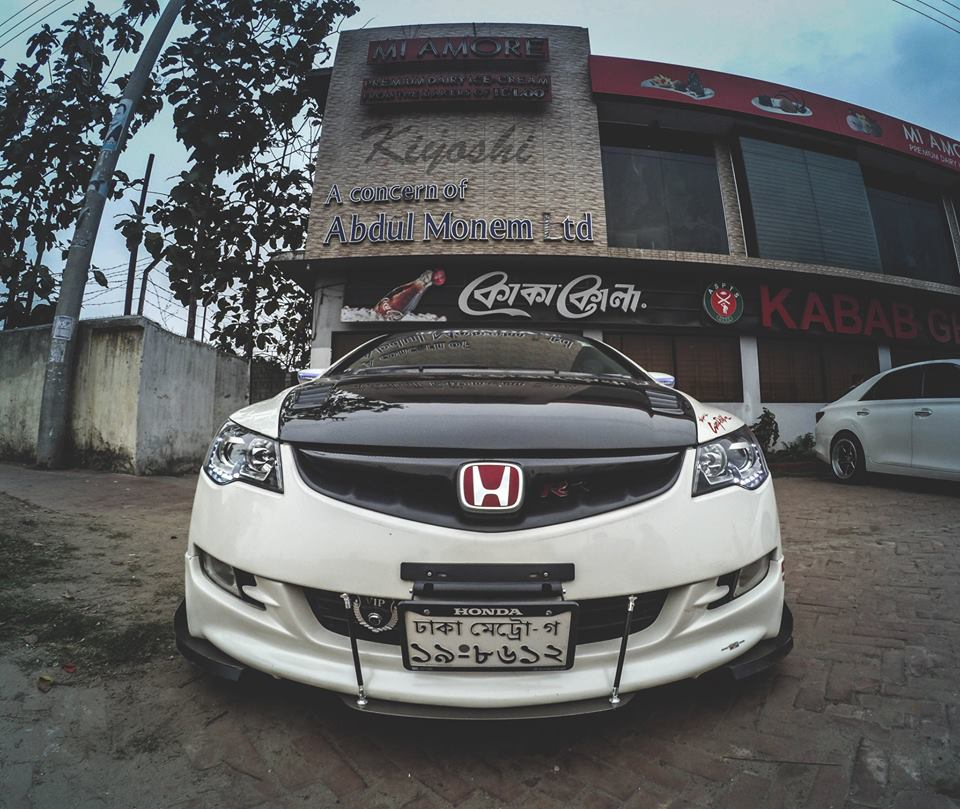registration_plate: (405, 610, 571, 666)
